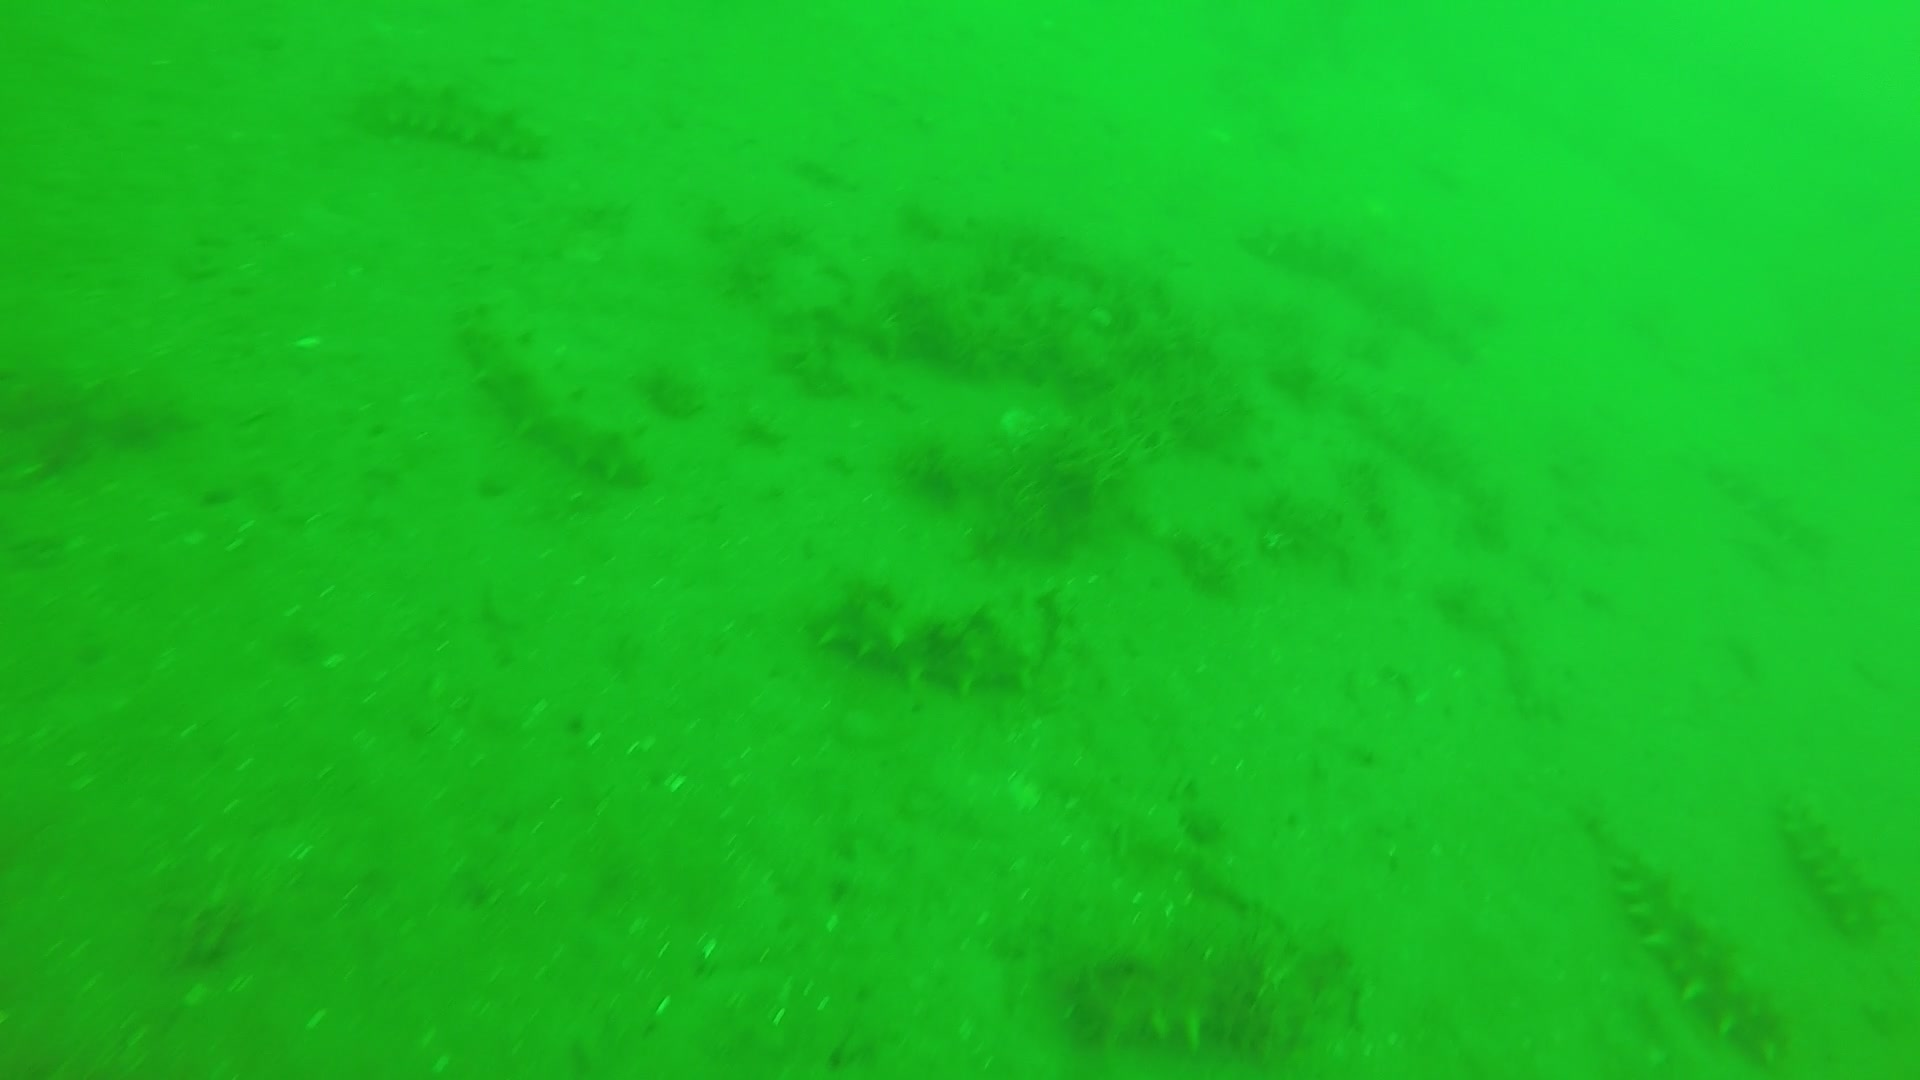holothurian: (1569, 827, 1779, 1062), (1226, 202, 1498, 352), (440, 302, 644, 496), (1069, 928, 1338, 1065), (810, 589, 1060, 694), (334, 73, 547, 165), (1778, 818, 1905, 952), (1695, 456, 1837, 553)
